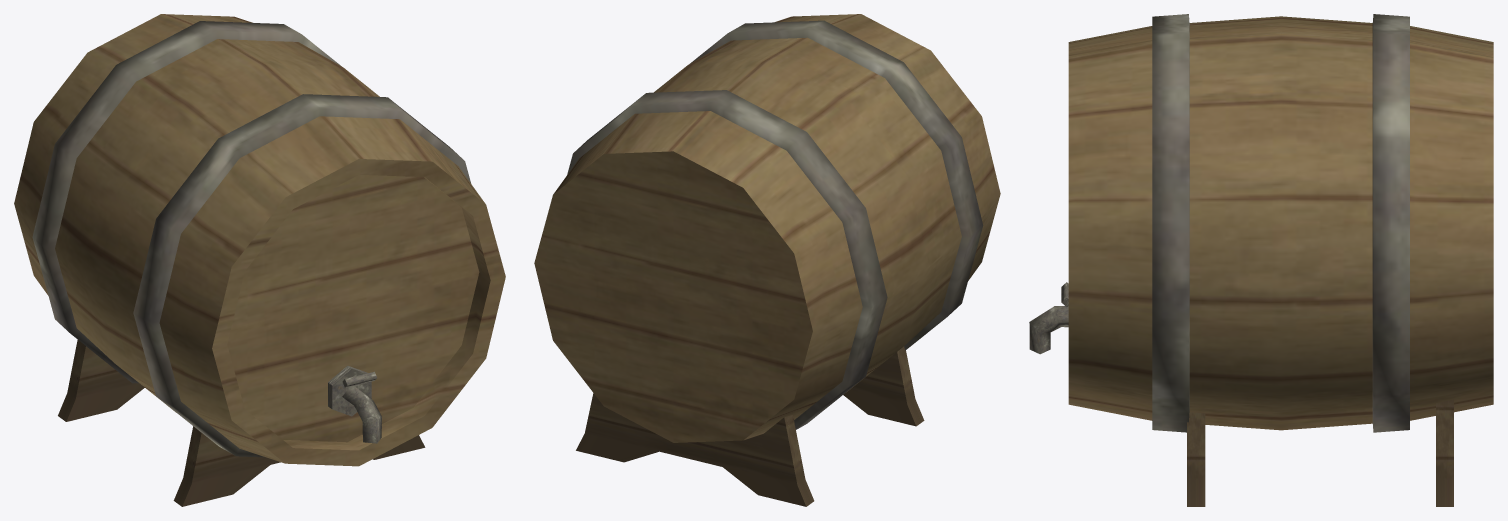
Rendered from keg01.glb.
3 renders of one model, left to right at view 1: azimuth 30°, elevation 25°; view 2: azimuth 150°, elevation 25°; view 3: azimuth 270°, elevation 25°, orthographic. The views are drawn at different scales.
Visible parts, largest first — view 1: keg01; view 2: keg01; view 3: keg01.
Boxes of the visible parts, box(x1,y1,x2,y2) form: keg01: box(14, 14, 505, 506); keg01: box(534, 14, 1000, 506); keg01: box(1029, 14, 1493, 506).
Size of the model in its own units: 0.6928 by 0.7464 by 0.7648.
3 materials, 3 textured.
